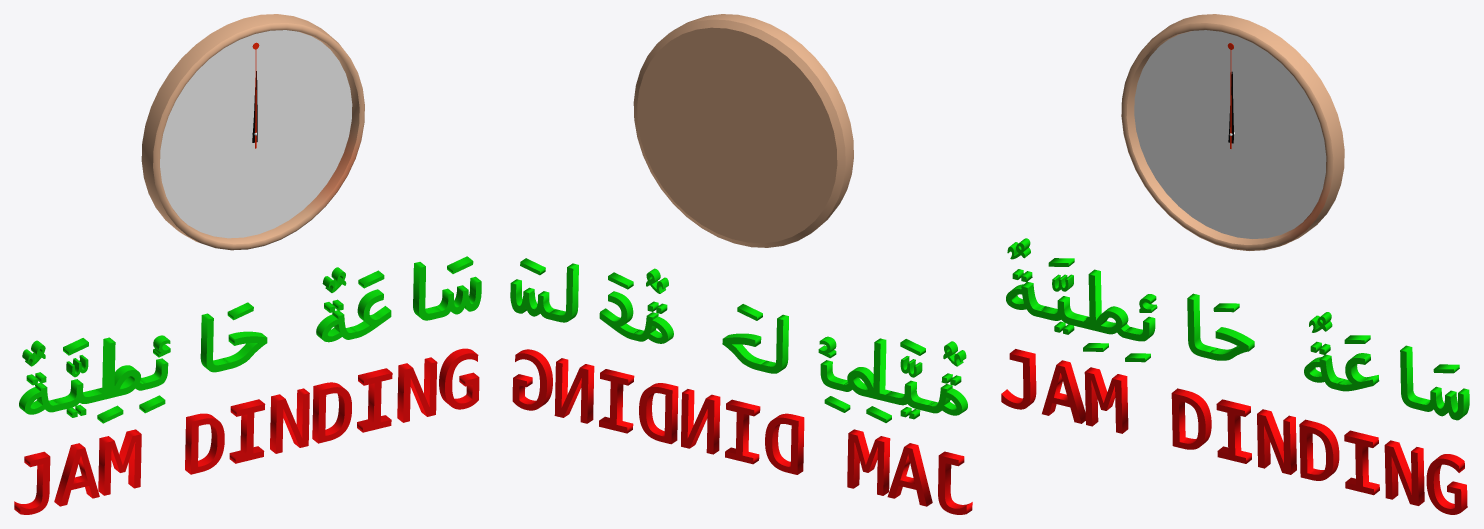
The model's file is BGE_Clock.fbx.
3 views of the same model, side by side, from view 1: azimuth 30°, elevation 25°; view 2: azimuth 150°, elevation 25°; view 3: azimuth 330°, elevation 25° (orthographic).
Visible parts, largest first — view 1: Circle.016, Teks.010, Teks; view 2: Circle.016, Teks.010, Teks; view 3: Circle.016, Teks.010, Teks.
Boxes of the visible parts, bbox=[...] form: Circle.016: bbox=[141, 14, 364, 250]; Teks.010: bbox=[14, 348, 479, 514]; Teks: bbox=[19, 262, 481, 417]; Circle.016: bbox=[633, 14, 853, 247]; Teks.010: bbox=[512, 349, 972, 514]; Teks: bbox=[510, 263, 967, 419]; Circle.016: bbox=[1121, 14, 1344, 250]; Teks.010: bbox=[1001, 349, 1467, 514]; Teks: bbox=[1006, 269, 1469, 420].
Bounding box in the file's own units: 902 × 826 × 50.16.
